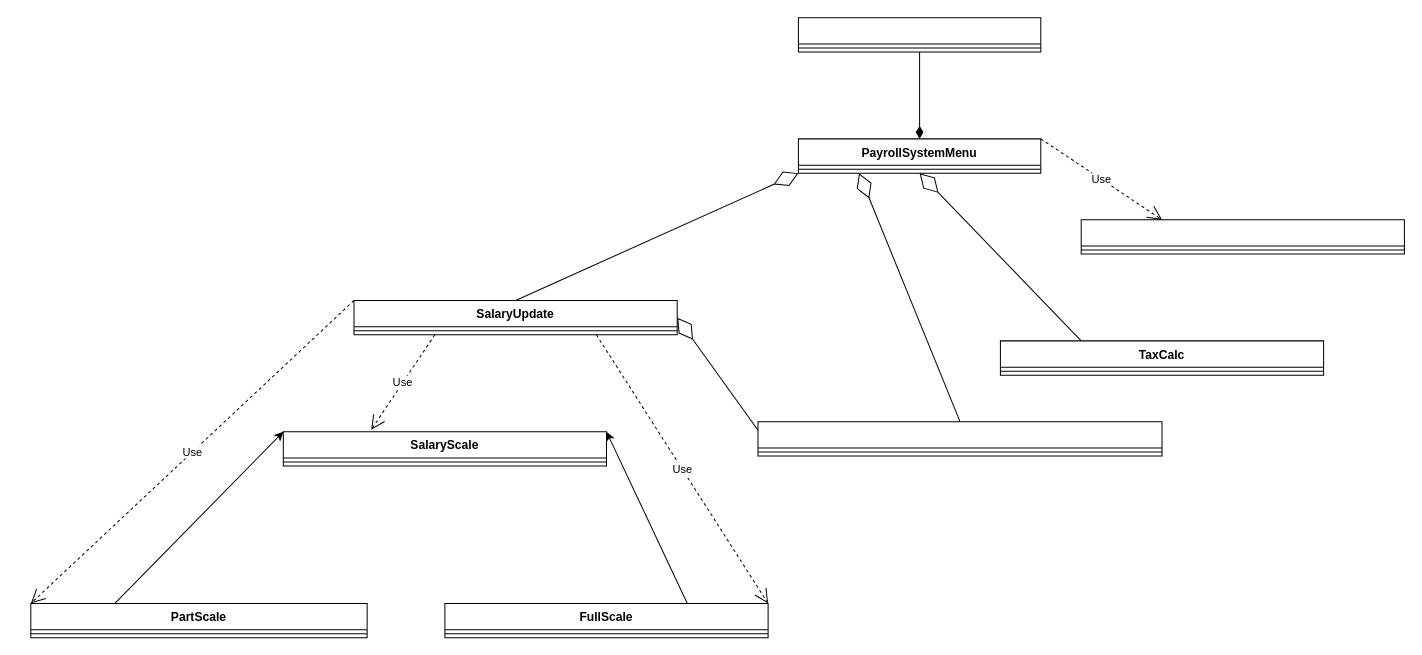
Some shapes in this 1422 by 655 pixel diagram are drawn without their labels. Here are the shapes that lost their labels. From the top down, the centre of each, then its label:
At point 919,34: "PayrollSystem".
At point 1242,236: "PasswordUtil".
At point 959,438: "DBController".
